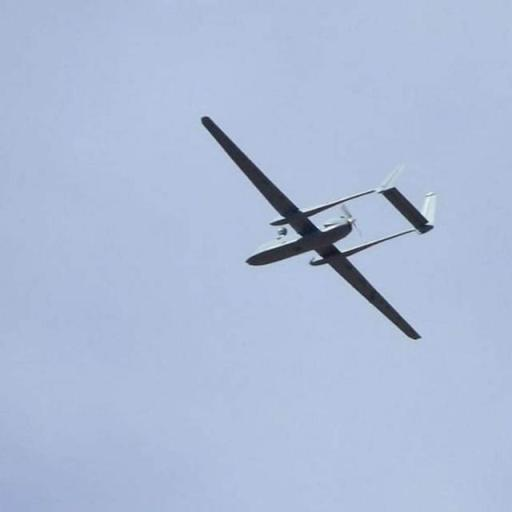uav: (195, 108, 450, 352)
